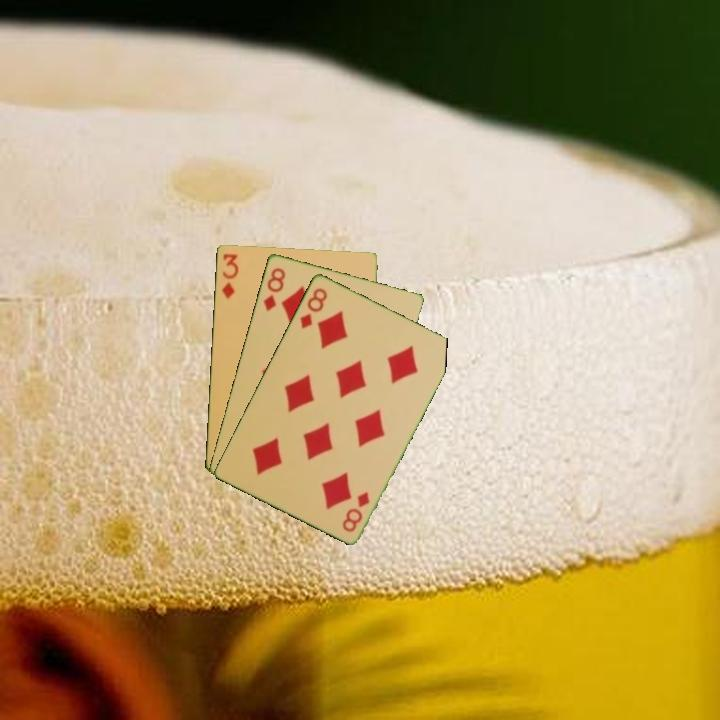3d: (218, 250, 241, 302)
8d: (338, 487, 372, 535), (296, 284, 330, 331), (259, 264, 288, 314)
